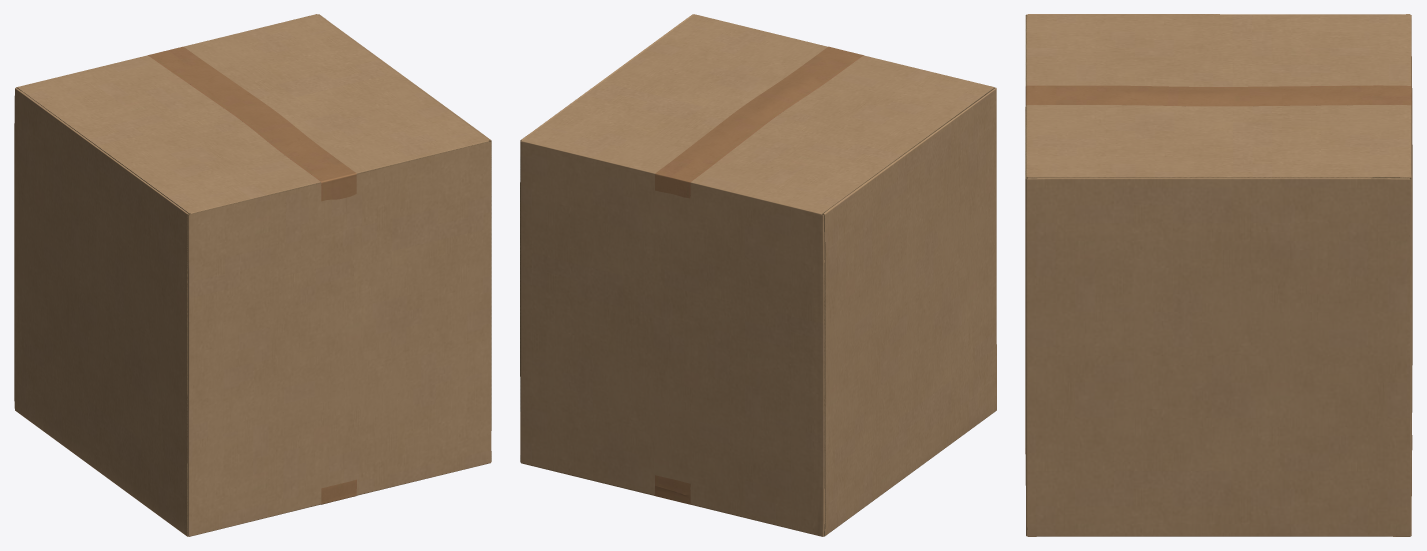
The model's file is trash_cardboard_box.glb.
The picture shows the model from 3 angles, left to right: view 1: azimuth 30°, elevation 25°; view 2: azimuth 150°, elevation 25°; view 3: azimuth 270°, elevation 25°; orthographic projection. The views are drawn at different scales.
Visible parts, largest first — view 1: trash_cardboard_box; view 2: trash_cardboard_box; view 3: trash_cardboard_box.
Part boxes in pixels (box(x1,y1,x2,y2)): trash_cardboard_box: box(14, 14, 491, 536); trash_cardboard_box: box(520, 14, 996, 536); trash_cardboard_box: box(1025, 14, 1412, 536).
Bounding box in the file's own units: 0.5143 × 0.5223 × 0.5077.
Materials: 2 (2 with a texture image).
